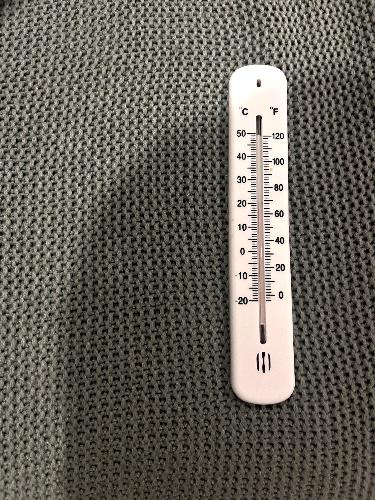thermo: (229, 63, 296, 401)
